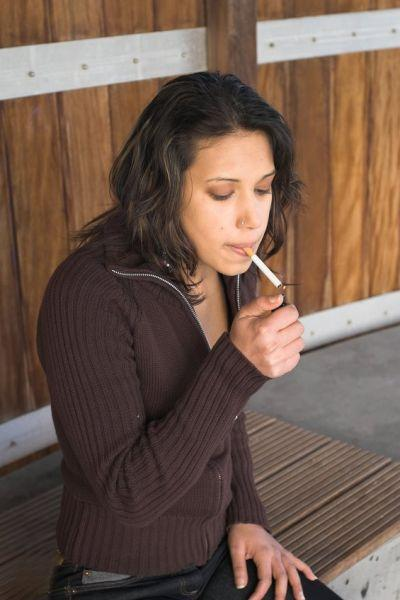person: (36, 72, 348, 600)
